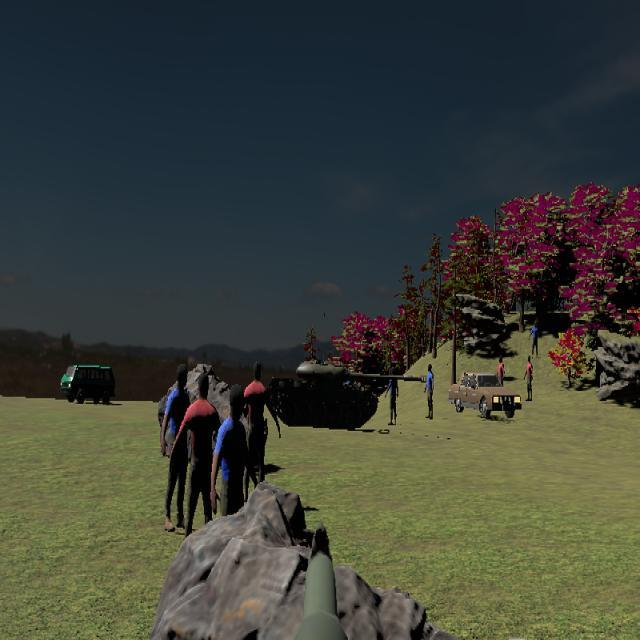Human: (160, 363, 217, 531), (172, 369, 227, 538), (209, 380, 254, 540), (239, 360, 281, 491), (424, 363, 434, 420), (524, 355, 534, 403)
Tank: (268, 357, 410, 429)
car: (448, 372, 520, 419), (60, 363, 115, 405)
